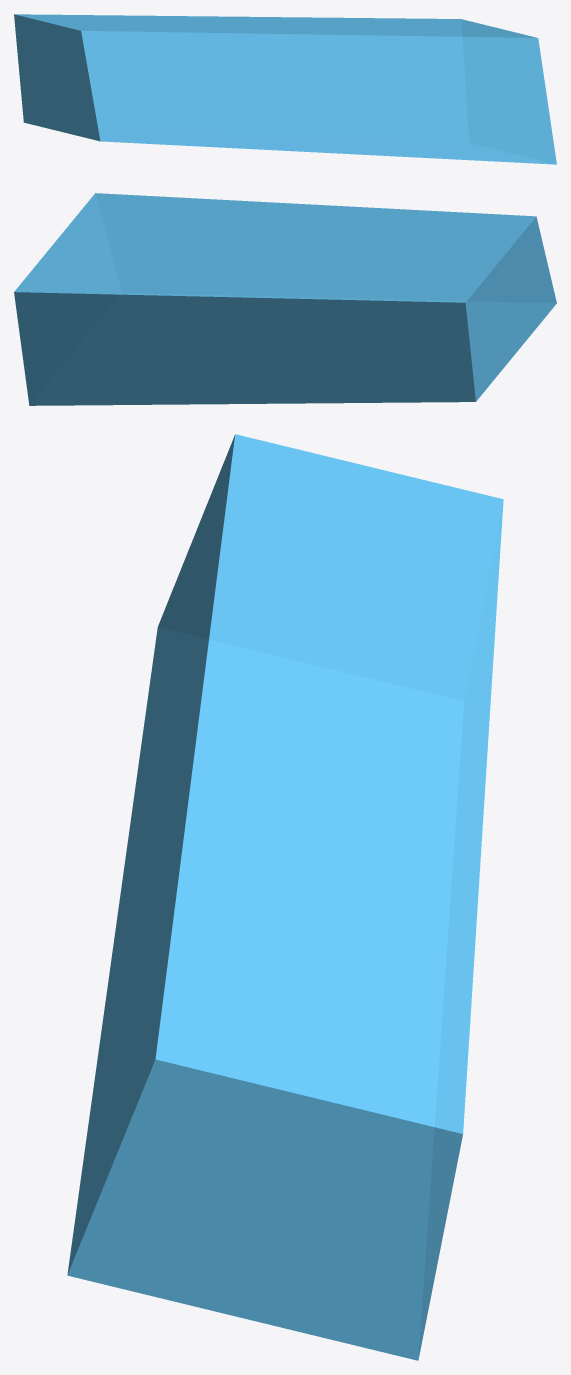
Rendered from Event_421127236_HErechit_16.fbx.
3 renders of one model, top to bottom at view 1: azimuth 30°, elevation 25°; view 2: azimuth 150°, elevation 25°; view 3: azimuth 270°, elevation 25°, orthographic. The views are drawn at different scales.
Visible parts, largest first — view 1: Model; view 2: Model; view 3: Model.
Part boxes in pixels (left/top/right/bottom): Model: left=14, top=14, right=556, bottom=164; Model: left=14, top=193, right=556, bottom=405; Model: left=67, top=434, right=503, bottom=1360.
Bounding box in the file's own units: 1.49 × 0.8181 × 0.6428.
